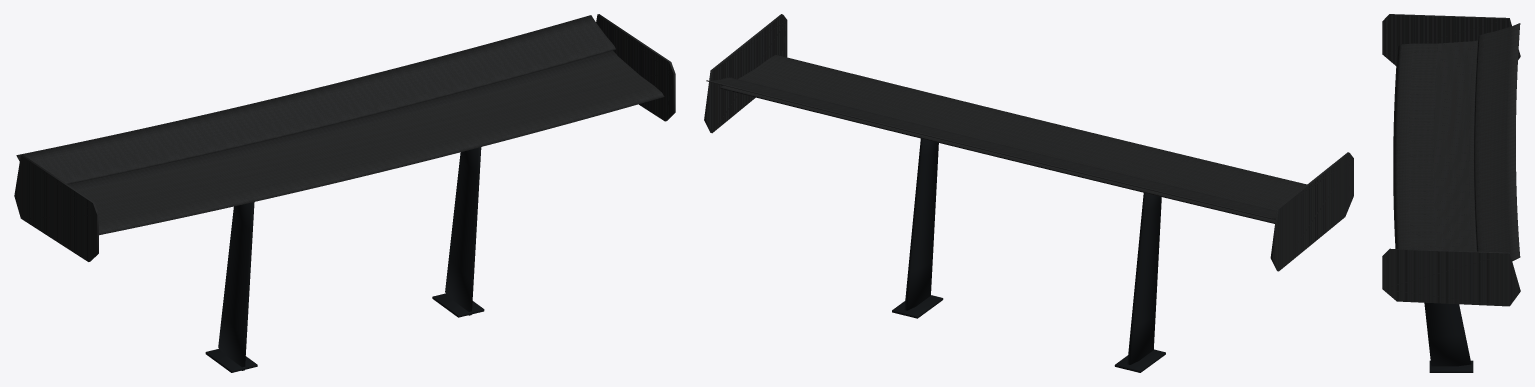
File: RA61_time_attack_wing.glb
3 views of the same model, side by side, from view 1: azimuth 30°, elevation 25°; view 2: azimuth 150°, elevation 25°; view 3: azimuth 270°, elevation 25° (orthographic). The views are drawn at different scales.
Parts seen in each view (by area): view 1: MOD_NB_RA61_main, MOD_NB_RA61_flap, MOD_NB_RA61_endplate_R, MOD_NB_RA61_upright_R, MOD_NB_RA61_upright_L, MOD_NB_RA61_endplate_L; view 2: MOD_NB_RA61_main, MOD_NB_RA61_flap, MOD_NB_RA61_endplate_R, MOD_NB_RA61_endplate_L, MOD_NB_RA61_upright_L, MOD_NB_RA61_upright_R, MOD_NB_RA61_foot_L, MOD_NB_RA61_foot_R; view 3: MOD_NB_RA61_main, MOD_NB_RA61_flap, MOD_NB_RA61_endplate_L, MOD_NB_RA61_endplate_R, MOD_NB_RA61_upright_L, MOD_NB_RA61_foot_L.
Part boxes in pixels (x1=…): MOD_NB_RA61_main: x1=68, y1=50, x2=664, y2=235; MOD_NB_RA61_flap: x1=16, y1=15, x2=615, y2=184; MOD_NB_RA61_endplate_R: x1=14, y1=154, x2=98, y2=261; MOD_NB_RA61_upright_R: x1=218, y1=202, x2=254, y2=370; MOD_NB_RA61_upright_L: x1=445, y1=147, x2=481, y2=315; MOD_NB_RA61_endplate_L: x1=596, y1=14, x2=675, y2=121; MOD_NB_RA61_main: x1=720, y1=55, x2=1306, y2=223; MOD_NB_RA61_flap: x1=706, y1=77, x2=1276, y2=219; MOD_NB_RA61_endplate_R: x1=1270, y1=152, x2=1353, y2=271; MOD_NB_RA61_endplate_L: x1=704, y1=14, x2=787, y2=133; MOD_NB_RA61_upright_L: x1=904, y1=138, x2=938, y2=310; MOD_NB_RA61_upright_R: x1=1127, y1=193, x2=1161, y2=364; MOD_NB_RA61_foot_L: x1=892, y1=295, x2=943, y2=318; MOD_NB_RA61_foot_R: x1=1114, y1=349, x2=1165, y2=372; MOD_NB_RA61_main: x1=1393, y1=40, x2=1477, y2=251; MOD_NB_RA61_flap: x1=1474, y1=23, x2=1520, y2=261; MOD_NB_RA61_endplate_L: x1=1382, y1=248, x2=1520, y2=306; MOD_NB_RA61_endplate_R: x1=1382, y1=14, x2=1520, y2=65; MOD_NB_RA61_upright_L: x1=1424, y1=302, x2=1471, y2=366; MOD_NB_RA61_foot_L: x1=1429, y1=360, x2=1473, y2=372.
Bounding box in the file's own units: 1.53 × 0.5788 × 0.38.
2 materials, 1 textured.
